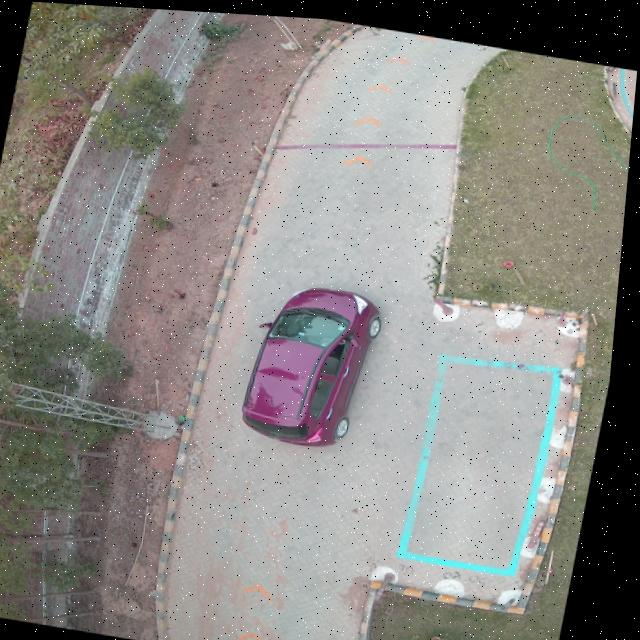car: (248, 282, 386, 441)
